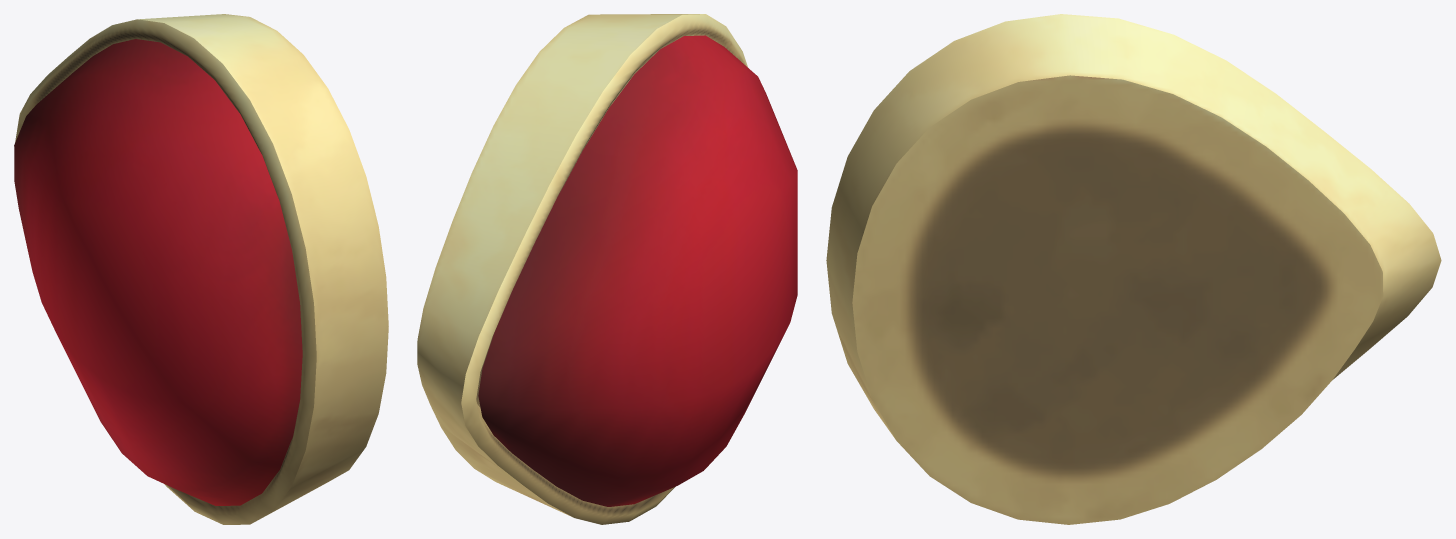
Rendered from SM_Gem_C_Gold.fbx.
3 renders of one model, left to right at view 1: azimuth 30°, elevation 25°; view 2: azimuth 150°, elevation 25°; view 3: azimuth 270°, elevation 25°, orthographic. The views are drawn at different scales.
Parts seen in each view (by area): view 1: SM_Gem_C_Gold_LOD0; view 2: SM_Gem_C_Gold_LOD0; view 3: SM_Gem_C_Gold_LOD0.
Boxes of the visible parts, x1,y1,x2,y2 form: SM_Gem_C_Gold_LOD0: (14,14,388,524); SM_Gem_C_Gold_LOD0: (417,14,797,524); SM_Gem_C_Gold_LOD0: (826,14,1441,524).
Bounding box in the file's own units: 1.3 × 3.59 × 3.12.
1 material, 1 textured.
